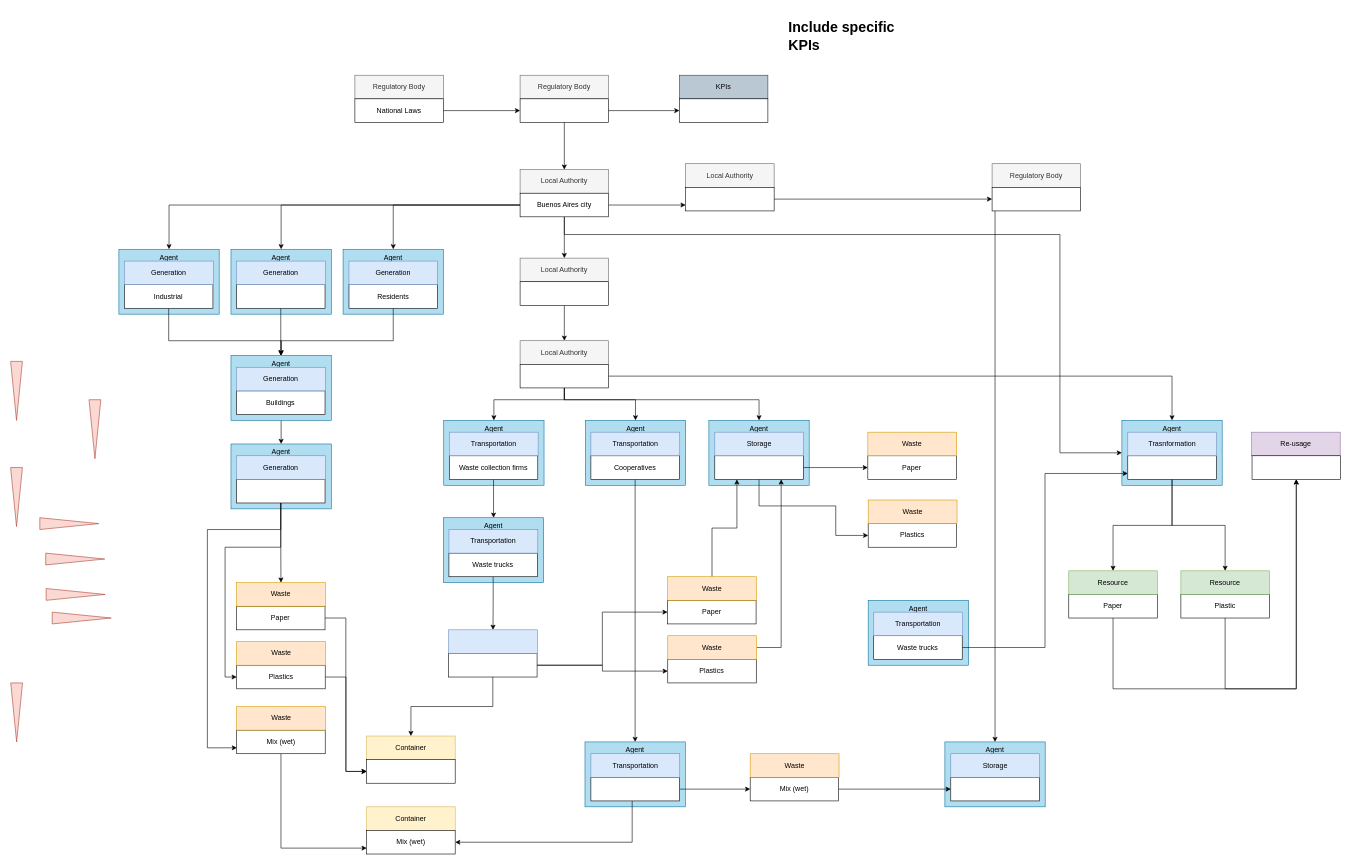
The diagram is 1351 pixels wide and 864 high, and some of its shapes have lost their labels. Each missing label, with the centre of its shape:
"Assigned routes" goes at (492,665).
"Blocks" goes at (280,491).
"CEAMSE" goes at (1036,199).
"Commercial" goes at (280,296).
"Direction of urban hygiene" goes at (564,376).
"Landfill" goes at (994,789).
"Local Legislation" goes at (564,110).
"Market" goes at (1296,467).
"Metropolitan Area" goes at (729,199).
"Ministry of Environment" goes at (564,293).
"Recycling facilities" goes at (1171,467).
"Solids bells" goes at (410,771).
"Transfer stations" goes at (758,467).
"Transportation route" goes at (492,641).
"Urban waste collectors" goes at (634,789).
